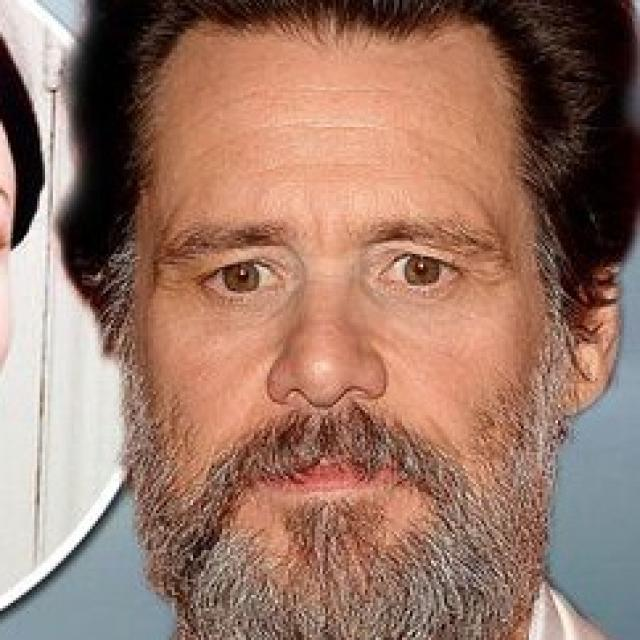Depress: (124, 20, 564, 636)
